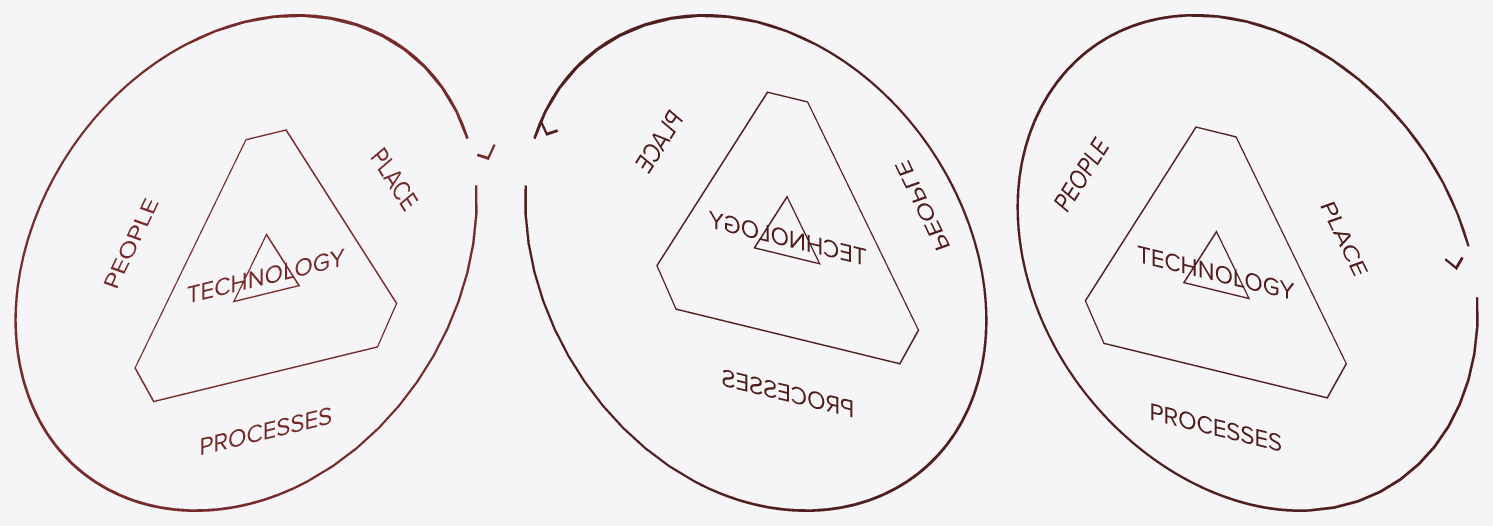
Rendered from 3D-animation-1.glb.
3 views of the same model, side by side, from view 1: azimuth 30°, elevation 25°; view 2: azimuth 150°, elevation 25°; view 3: azimuth 330°, elevation 25° (orthographic).
Visible parts, largest first — view 1: Curve.023, Curve; view 2: Curve.023, Curve; view 3: Curve.023, Curve.
Boxes of the visible parts, x1,y1,x2,y2 form: Curve.023: (14, 14, 477, 511); Curve: (134, 129, 397, 402); Curve.023: (524, 14, 987, 511); Curve: (656, 91, 919, 364); Curve.023: (1016, 14, 1478, 511); Curve: (1084, 126, 1346, 398).
Bounding box in the file's own units: 6.17 × 6.17 × 0.5937.
